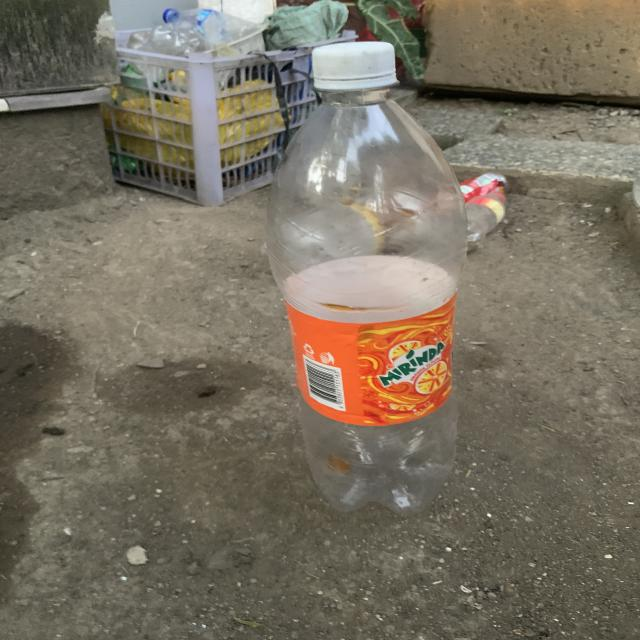Bottle: (267, 42, 467, 513)
